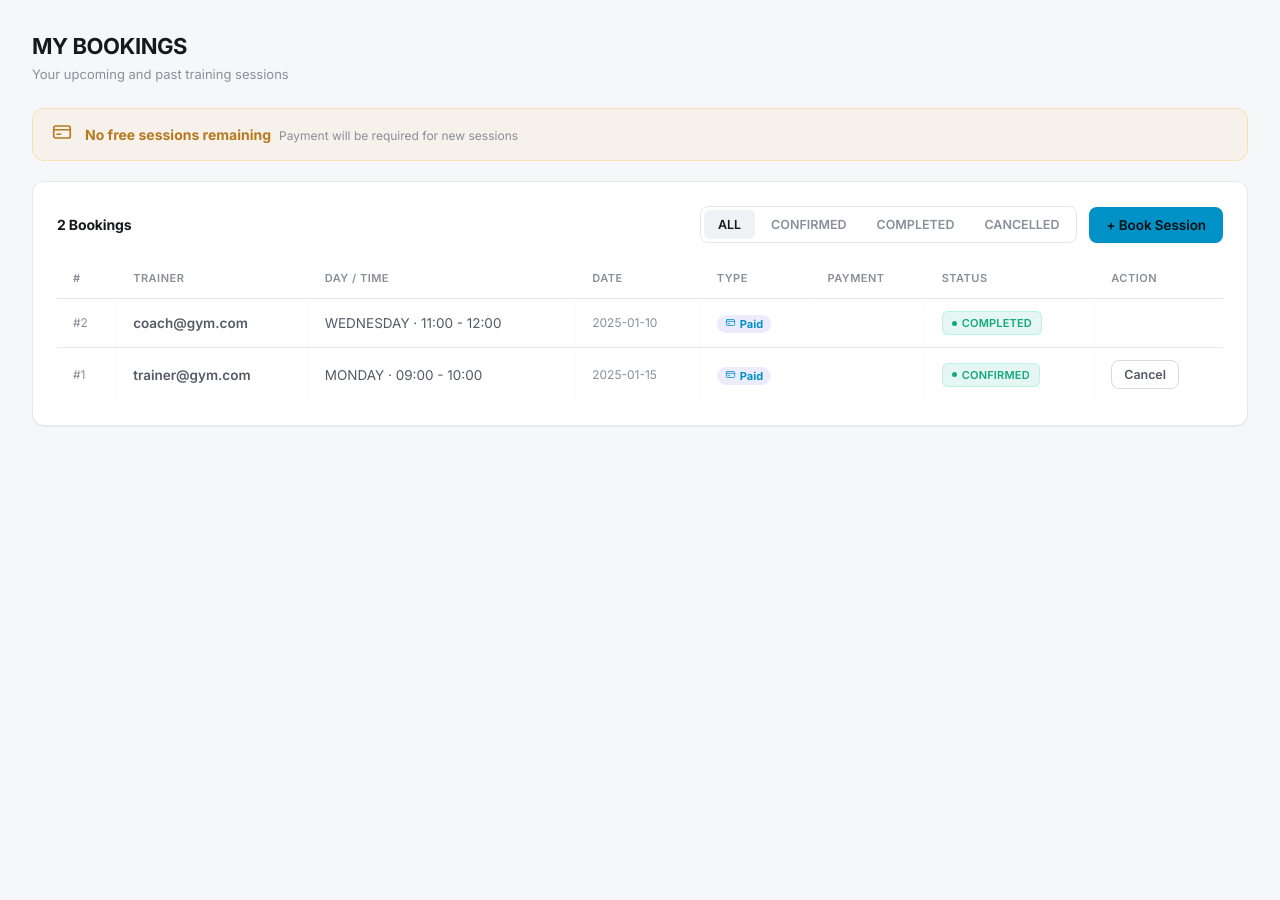
Test: MemberBookings — book session modal › modal closes when Cancel button is clicked
Click the button "+ Book Session". click: (1156, 225)
box: [1089,206,1223,243]
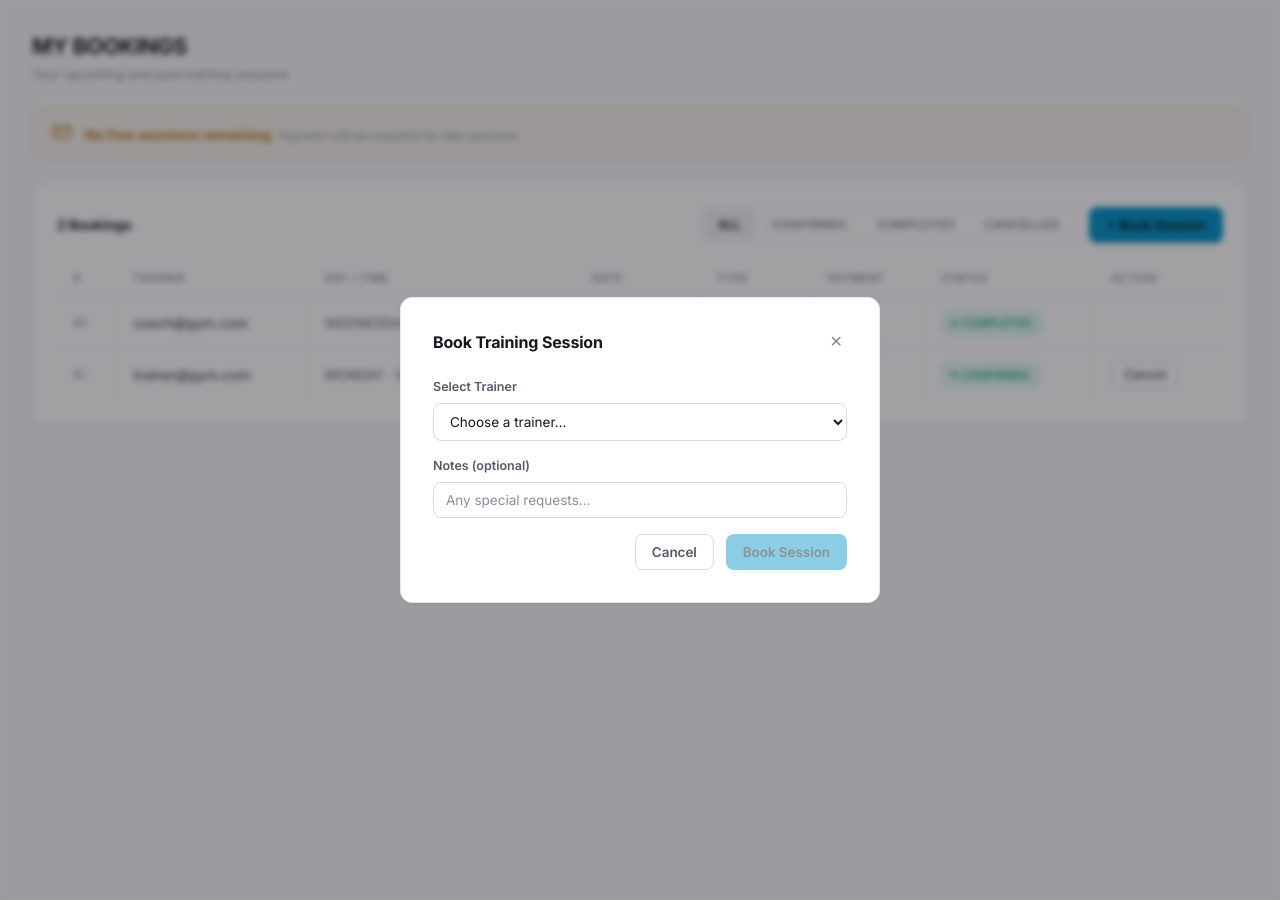
# Click the Cancel button inside the form (not the table Cancel)
Click the button "Cancel". click: (674, 552)
box: [635,534,714,570]
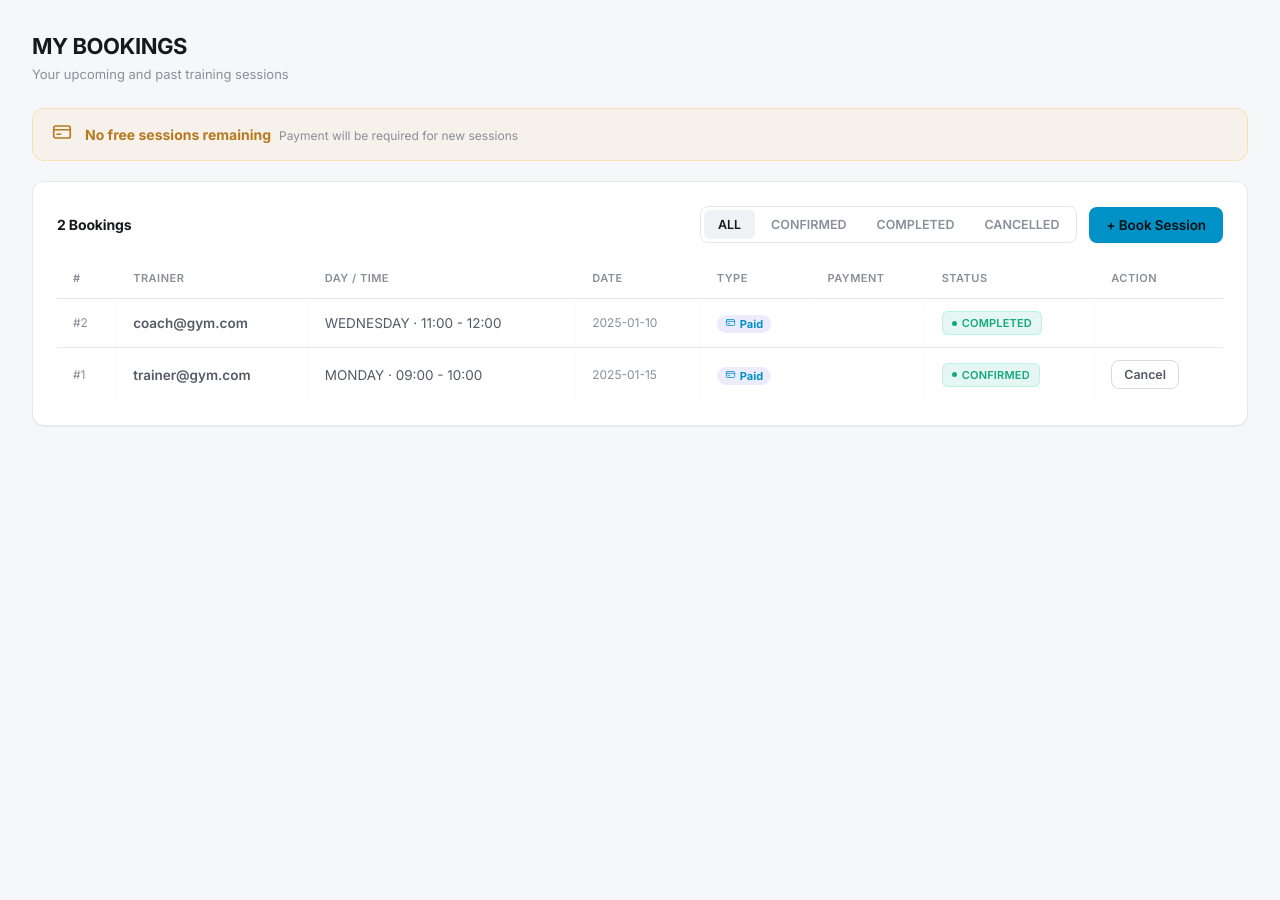
Check: the text "Book Training Session" is gone
